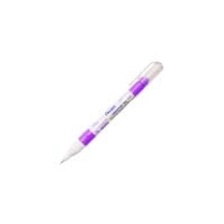correction_fluid: (53, 57, 164, 171)
